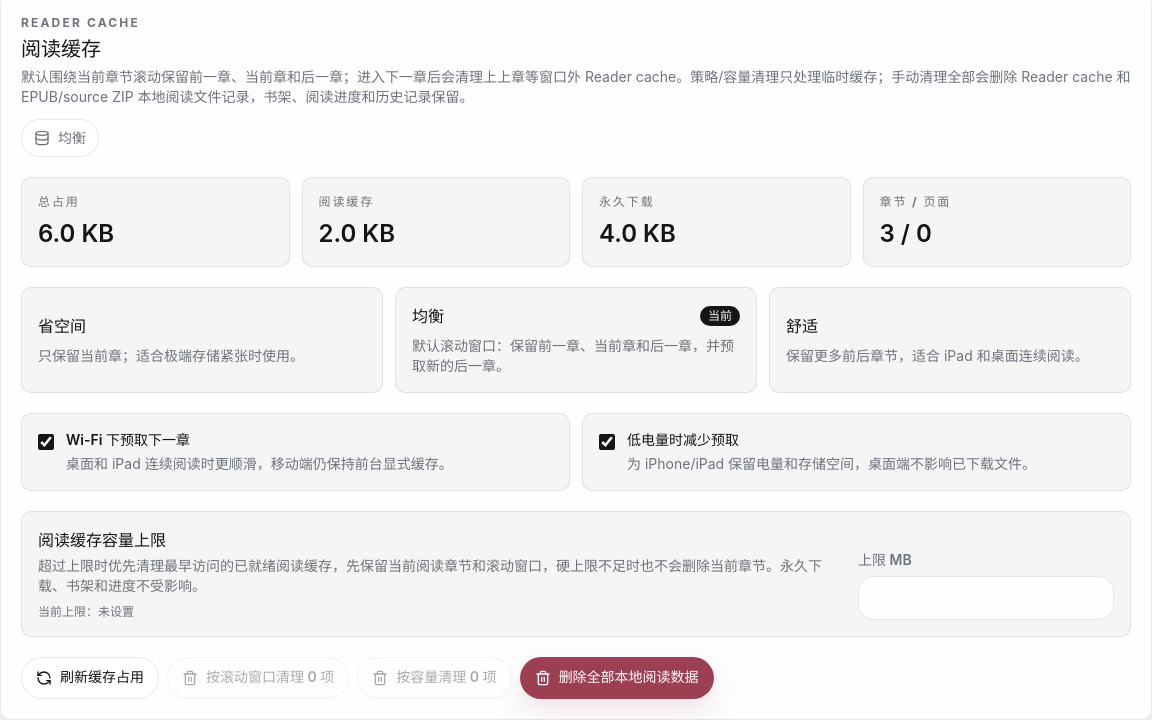
Settings native config sync › deletes all native local reading data and removes stale non-ready local cache rows
The width and height of the screenshot is (1152, 720).
(page scrolled)
expect the text "2.0 KB" is shown: met, box [318,219,395,248]
Click the button "删除全部本地阅读数据" at (617, 678), box [520,657,714,699]
(page scrolled)
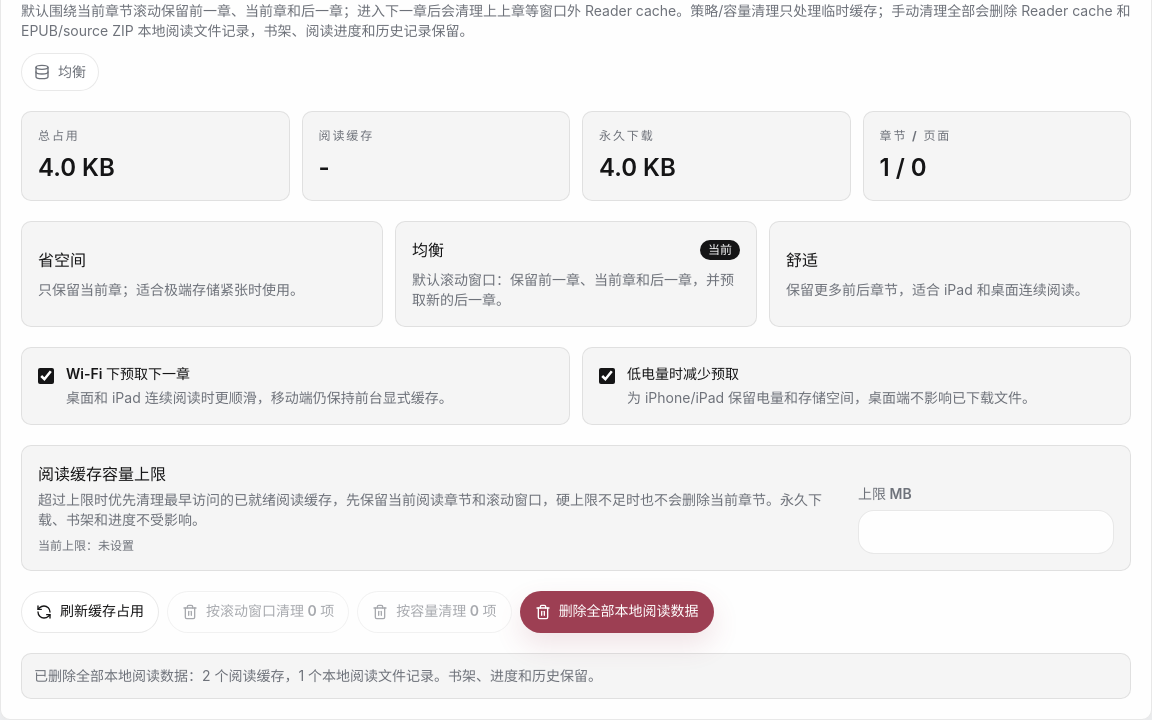
expect the text "已删除全部本地阅读数据：2 个阅读缓存，1 个本地阅读文件记录。书架、进度和历史保留。" is shown: met, box [21,653,1131,699]
